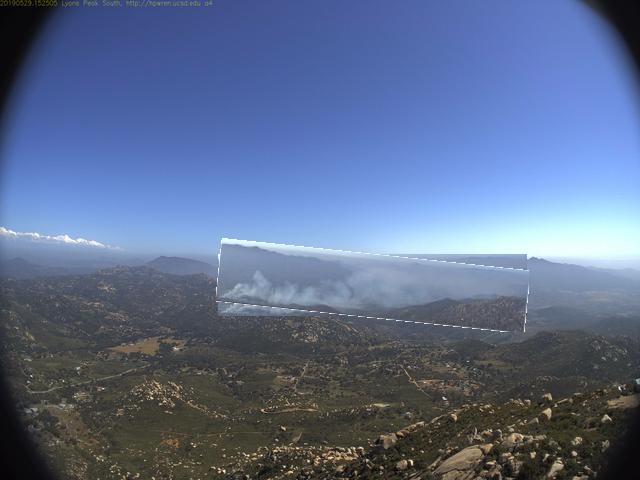smoke: (218, 247, 530, 326)
